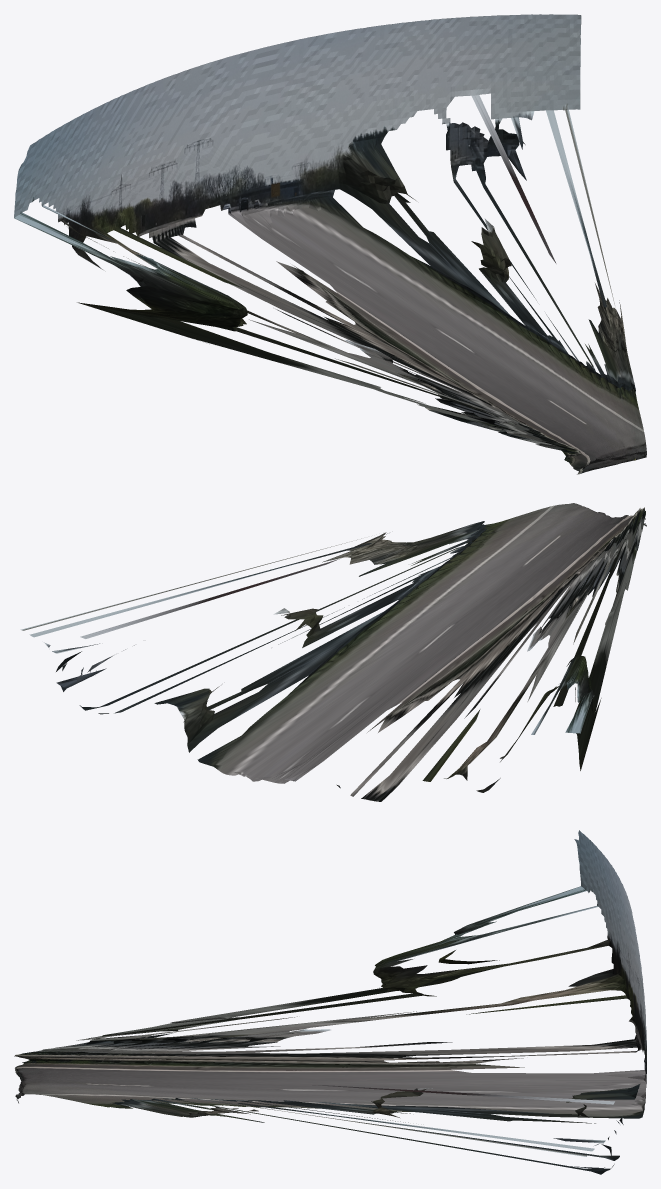
3 views of the same model, one above another, from view 1: azimuth 30°, elevation 25°; view 2: azimuth 150°, elevation 25°; view 3: azimuth 270°, elevation 25° (orthographic). The views are drawn at different scales.
Visible parts, largest first — view 1: defaultobject; view 2: defaultobject; view 3: defaultobject.
Boxes of the visible parts, x1=… form: defaultobject: x1=14, y1=14, x2=646, y2=474; defaultobject: x1=20, y1=503, x2=646, y2=801; defaultobject: x1=14, y1=830, x2=646, y2=1174.
Size of the model in its own units: 41.06 by 12.09 by 44.32.
1 material, 1 textured.
